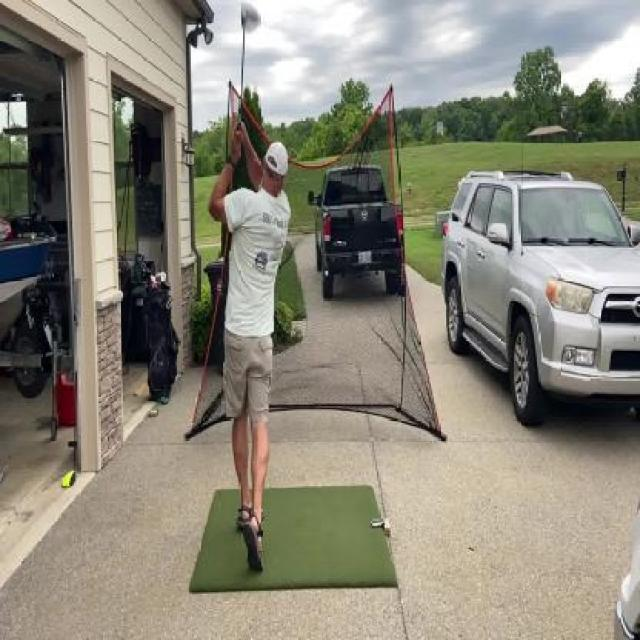club head: (239, 1, 261, 39)
